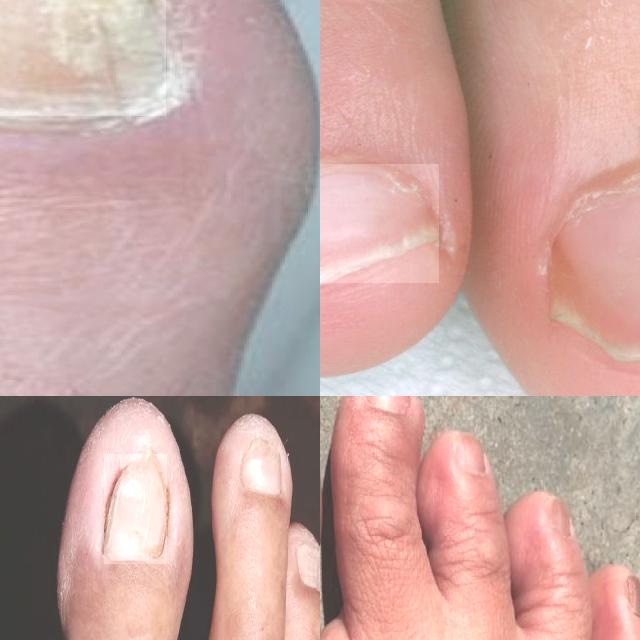diabetes: (548, 183, 640, 366), (320, 165, 439, 278), (104, 454, 167, 564), (239, 439, 283, 496), (296, 543, 320, 588), (366, 396, 412, 415)
